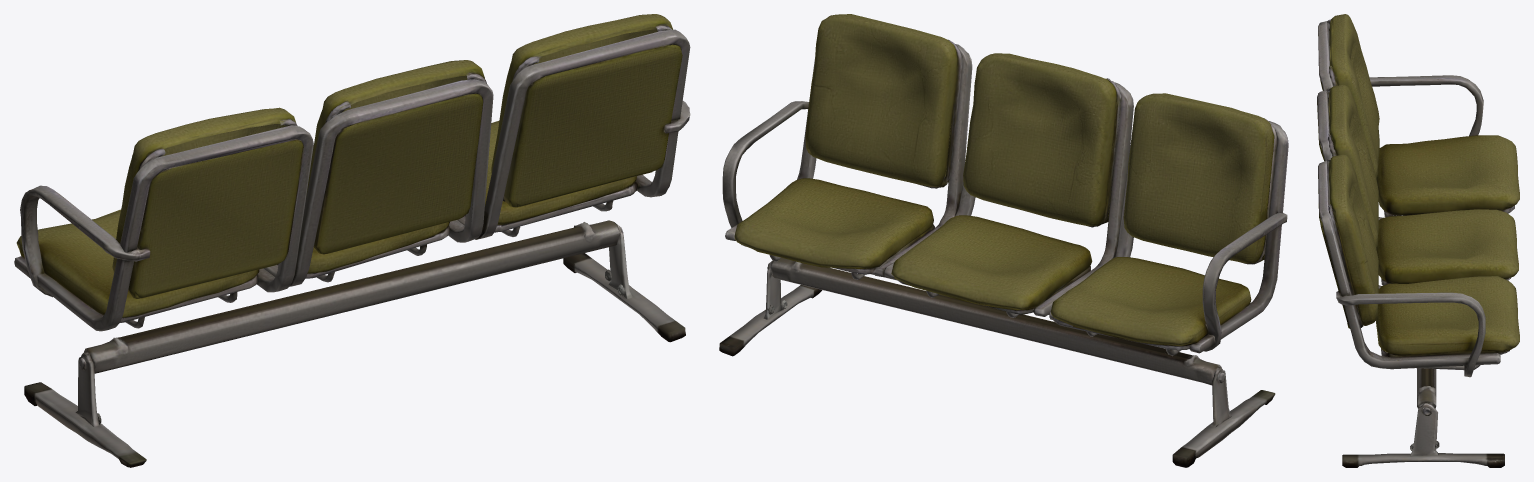
Rendered from theme-waiting-bench-v05.glb.
3 renders of one model, left to right at view 1: azimuth 30°, elevation 25°; view 2: azimuth 150°, elevation 25°; view 3: azimuth 270°, elevation 25°, orthographic. The views are drawn at different scales.
Visible parts, largest first — view 1: tripo_node_12da7d93-ead1-49d4-aac4-a711560aa306; view 2: tripo_node_12da7d93-ead1-49d4-aac4-a711560aa306; view 3: tripo_node_12da7d93-ead1-49d4-aac4-a711560aa306.
Part boxes in pixels (box(x1,y1,x2,y2)): tripo_node_12da7d93-ead1-49d4-aac4-a711560aa306: box(14, 14, 690, 467); tripo_node_12da7d93-ead1-49d4-aac4-a711560aa306: box(719, 14, 1288, 467); tripo_node_12da7d93-ead1-49d4-aac4-a711560aa306: box(1317, 14, 1519, 467).
Bounding box in the file's own units: 1.55 × 0.86 × 0.6108.
Materials: 1 (1 with a texture image).
